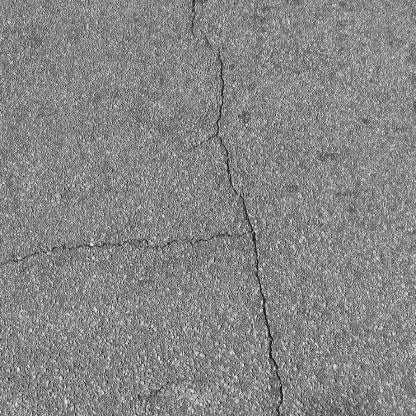Cracks: (0, 29, 262, 270), (255, 267, 287, 416), (144, 376, 195, 407), (189, 0, 200, 41), (130, 409, 149, 416)
